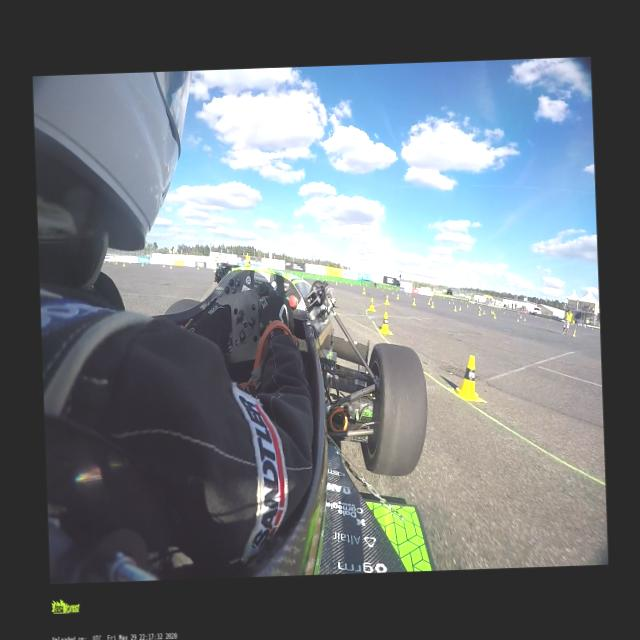yellow_cone: (452, 354, 480, 401), (378, 312, 390, 334), (366, 297, 374, 311), (384, 294, 389, 304), (412, 298, 416, 306), (516, 316, 520, 322), (431, 301, 434, 308), (362, 287, 365, 294), (168, 264, 172, 268), (140, 262, 144, 266), (502, 311, 506, 315), (458, 305, 461, 310), (493, 313, 496, 318), (572, 331, 575, 336), (427, 299, 430, 304), (454, 306, 456, 312), (396, 294, 398, 300), (478, 312, 481, 316), (482, 309, 484, 314), (350, 283, 352, 287), (524, 317, 526, 321), (479, 306, 481, 310), (466, 304, 468, 308), (492, 310, 494, 314)
